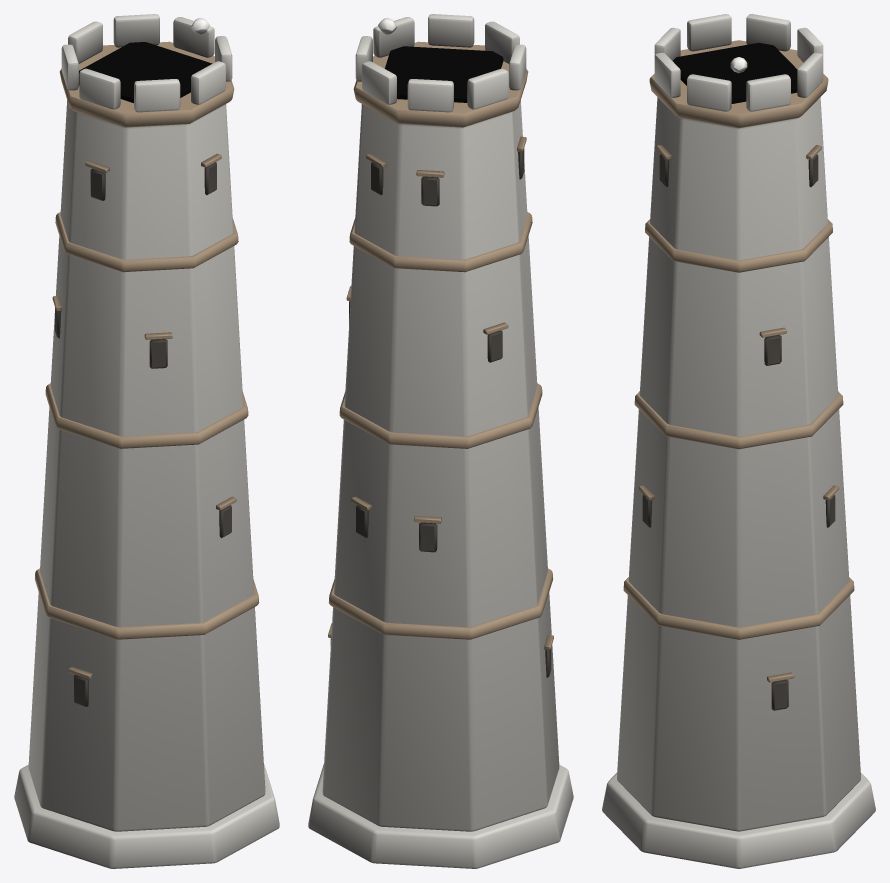
The model's file is diaolou.glb.
3 views of the same model, side by side, from view 1: azimuth 30°, elevation 25°; view 2: azimuth 150°, elevation 25°; view 3: azimuth 270°, elevation 25° (orthographic).
Visible parts, largest first — view 1: diaolou; view 2: diaolou; view 3: diaolou.
Boxes of the visible parts, x1=… form: diaolou: x1=14, y1=14, x2=279, y2=868; diaolou: x1=308, y1=14, x2=573, y2=868; diaolou: x1=602, y1=14, x2=875, y2=868.
Bounding box in the file's own units: 3.6 × 11.33 × 3.6.
